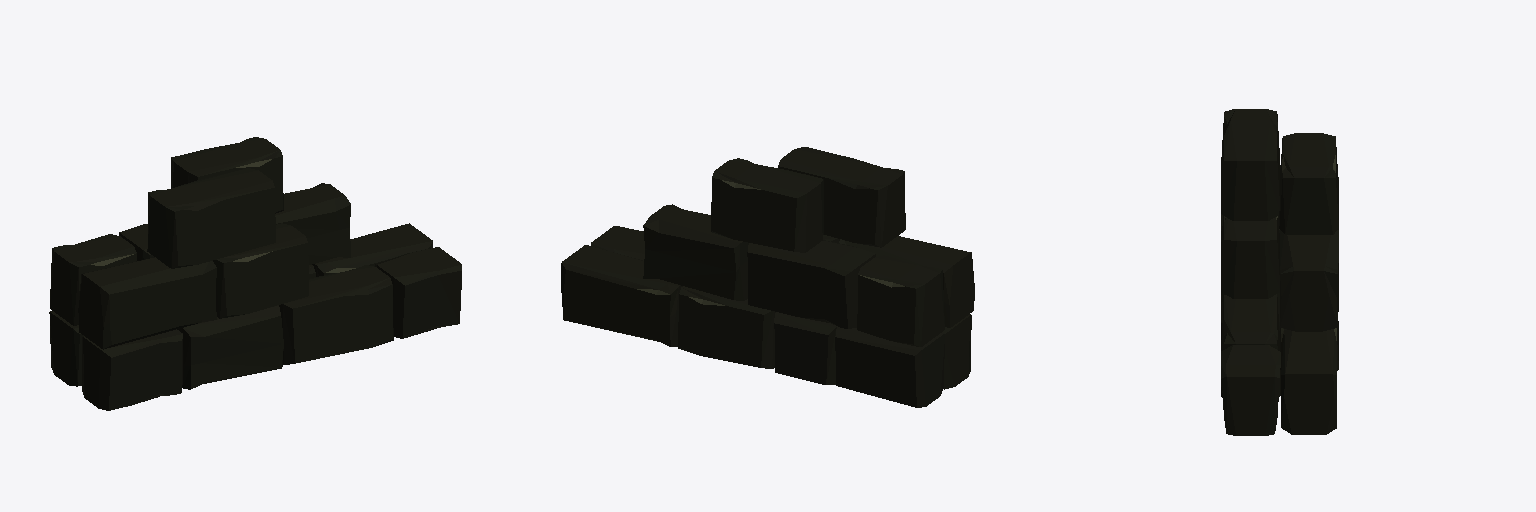
File: Wall_Double_Broken.obj
3 views of the same model, side by side, from view 1: azimuth 30°, elevation 25°; view 2: azimuth 150°, elevation 25°; view 3: azimuth 270°, elevation 25° (orthographic).
Visible parts, largest first — view 1: Wall_Double_Broken_Cube.011; view 2: Wall_Double_Broken_Cube.011; view 3: Wall_Double_Broken_Cube.011.
Boxes of the visible parts, x1,y1,x2,y2 form: Wall_Double_Broken_Cube.011: [49, 137, 461, 410]; Wall_Double_Broken_Cube.011: [561, 147, 974, 407]; Wall_Double_Broken_Cube.011: [1221, 109, 1338, 435].
Size of the model in its own units: 1.99 by 0.9868 by 0.5656.